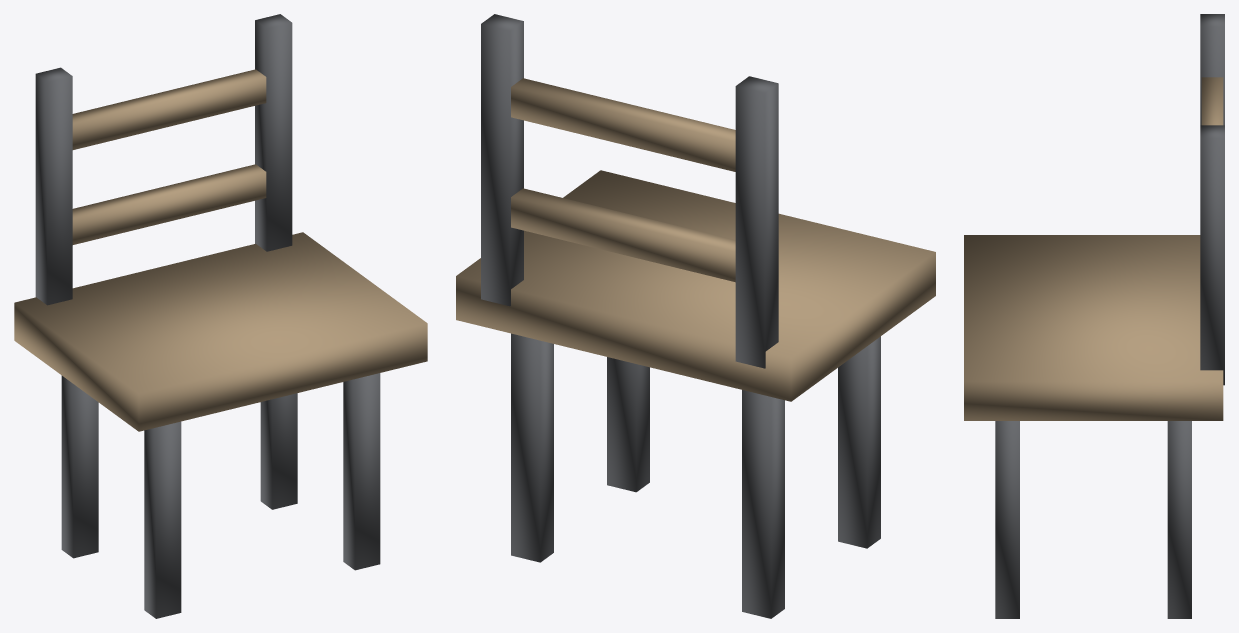
The model's file is dining_chair__wide.glb.
3 renders of one model, left to right at view 1: azimuth 30°, elevation 25°; view 2: azimuth 150°, elevation 25°; view 3: azimuth 270°, elevation 25°, orthographic. The views are drawn at different scales.
Parts seen in each view (by area): view 1: world; view 2: world; view 3: world.
Boxes of the visible parts, x1,y1,x2,y2 form: world: [14, 14, 427, 618]; world: [456, 14, 935, 618]; world: [964, 14, 1224, 618].
Bounding box in the file's own units: 0.637 × 0.9841 × 0.4785.
